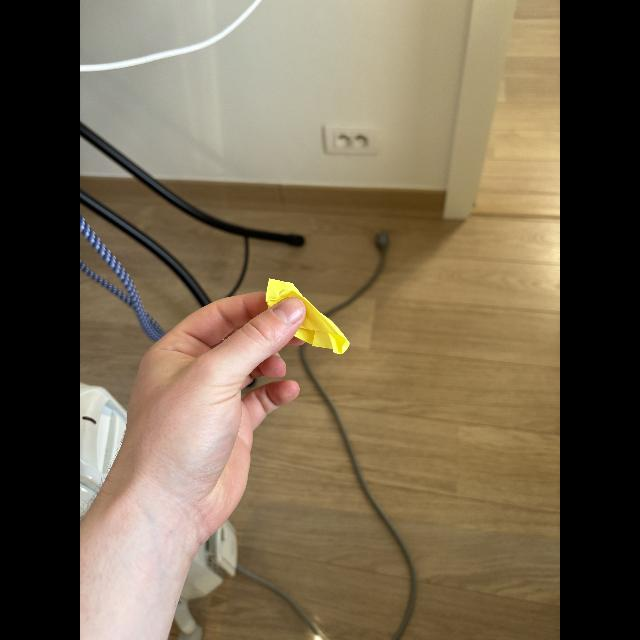Paper: (260, 266, 352, 362)
